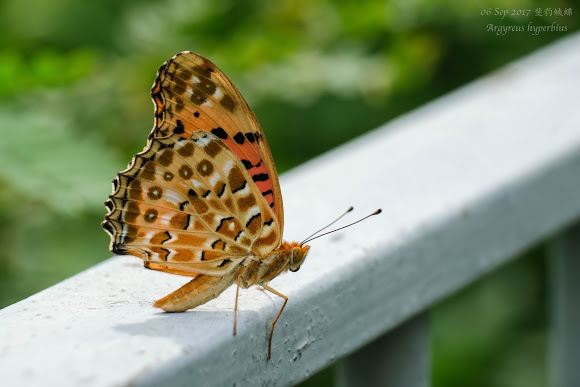Argyreus hyperbius: (100, 43, 387, 362)
butterfly: (102, 45, 389, 364)
